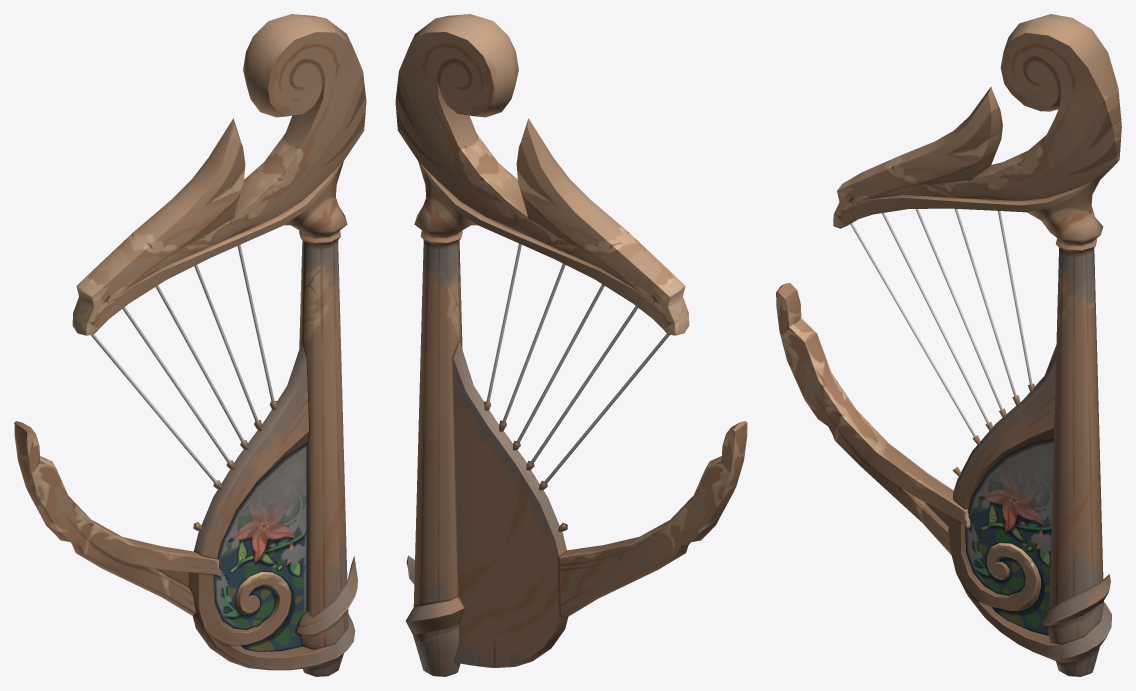
Rendered from Broken Lyre.glb.
The picture shows the model from 3 angles, left to right: view 1: azimuth 30°, elevation 25°; view 2: azimuth 150°, elevation 25°; view 3: azimuth 330°, elevation 25°; orthographic projection.
Parts seen in each view (by area): view 1: AvatarItem_PlayerBoy_BrokenLyre; view 2: AvatarItem_PlayerBoy_BrokenLyre; view 3: AvatarItem_PlayerBoy_BrokenLyre.
Boxes of the visible parts, box(x1,y1,x2,y2) form: AvatarItem_PlayerBoy_BrokenLyre: box(14, 14, 366, 676); AvatarItem_PlayerBoy_BrokenLyre: box(395, 14, 747, 676); AvatarItem_PlayerBoy_BrokenLyre: box(776, 14, 1121, 676).
Size of the model in its own units: 0.2268 by 0.412 by 0.0413.
1 material, 1 textured.
